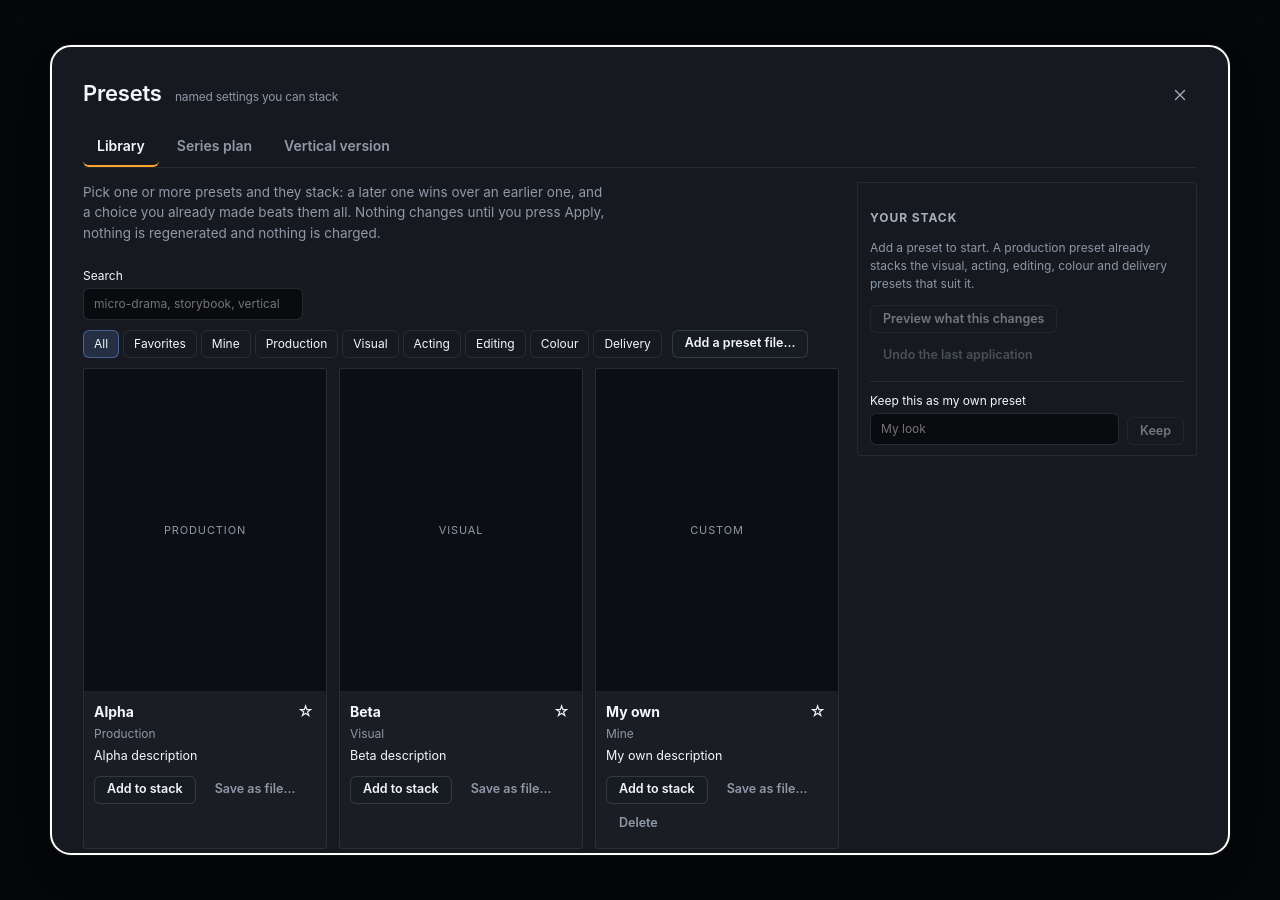
Test: the presets sheet › an engine refusal shows as an alert and nothing else changes
Click the button "Add to stack" below "Alpha description" at (145, 790), box [94,776,196,804]
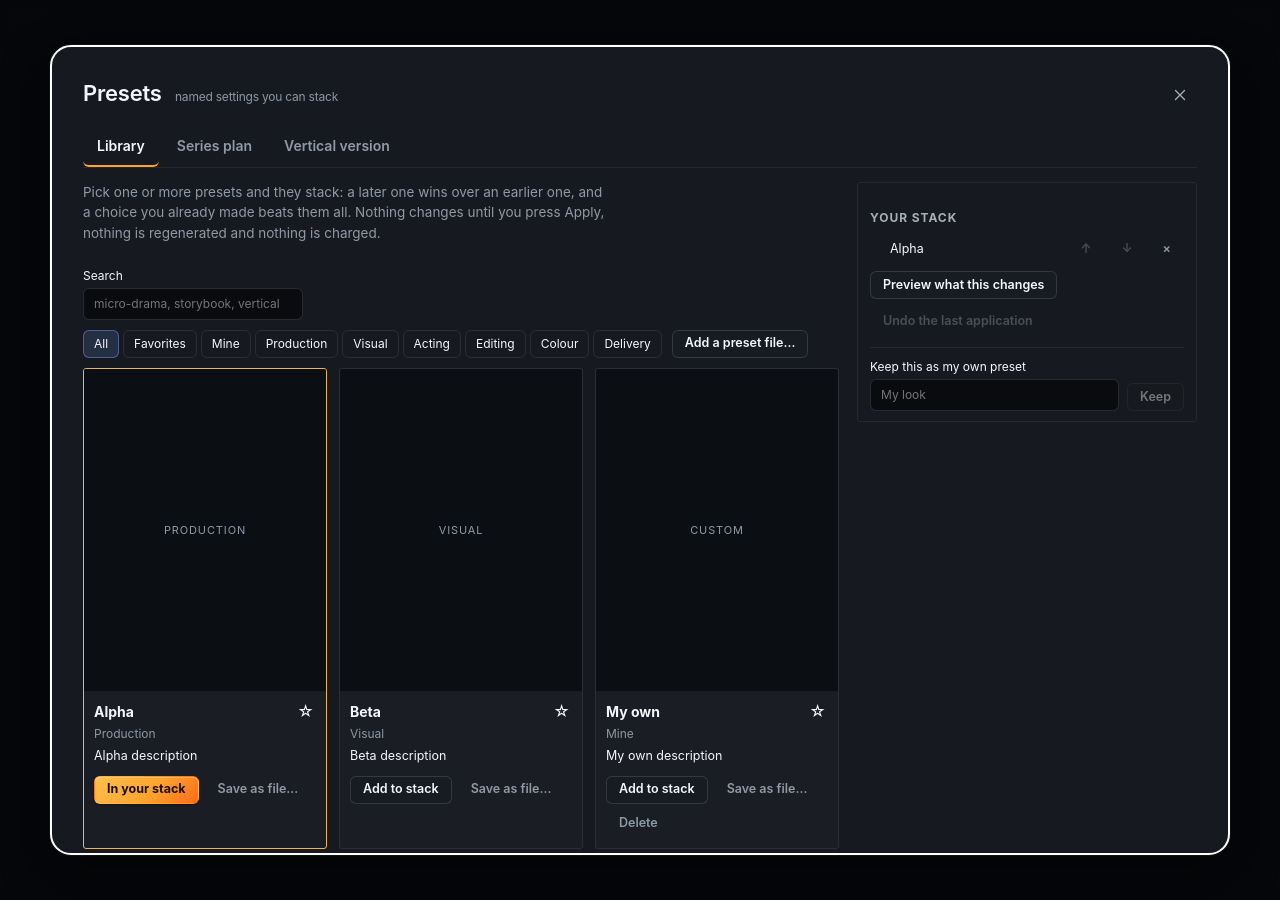
Click the button "Preview what this changes" at (964, 285), box [870,271,1058,299]
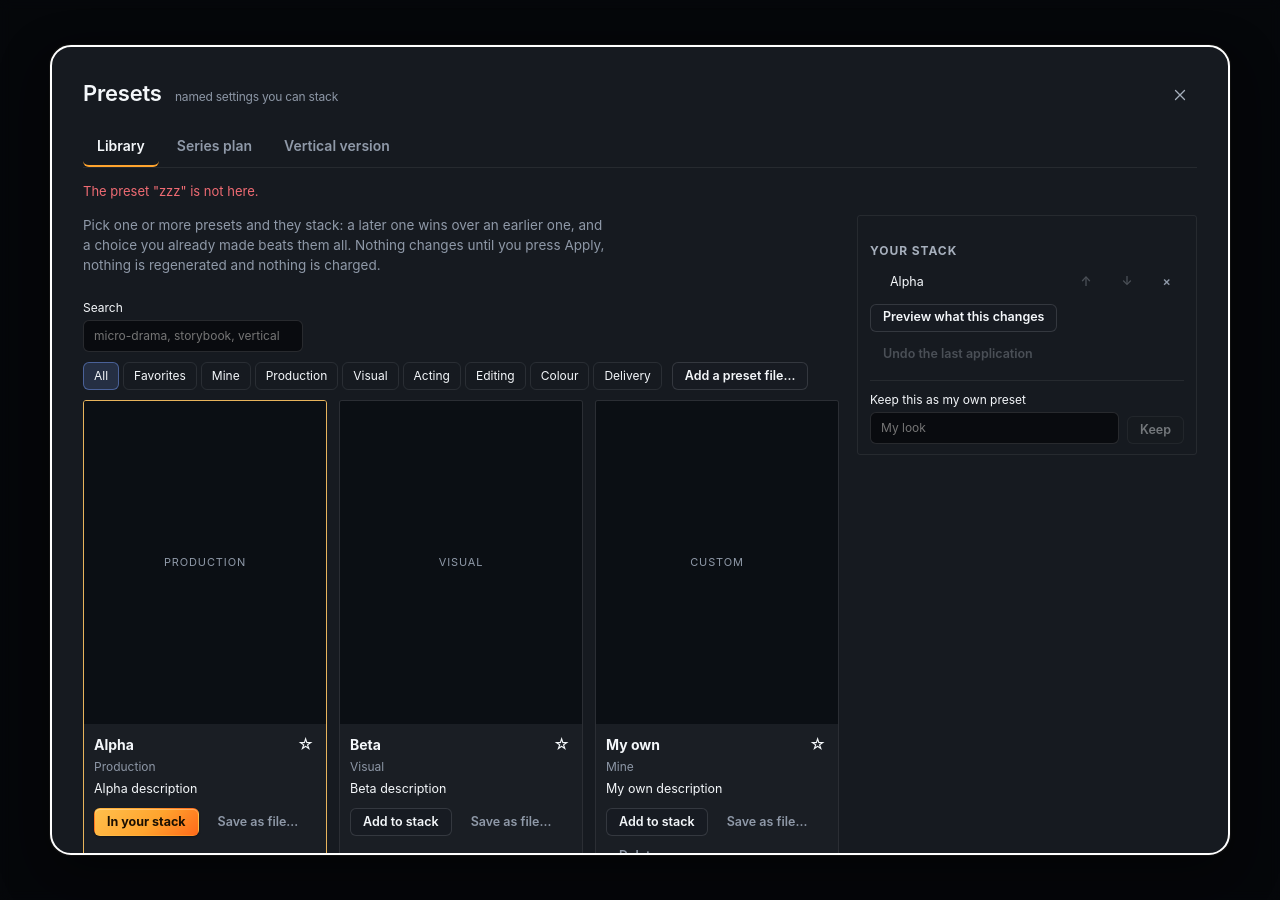
Expected: the message shows "not here", [83,183,258,199]
